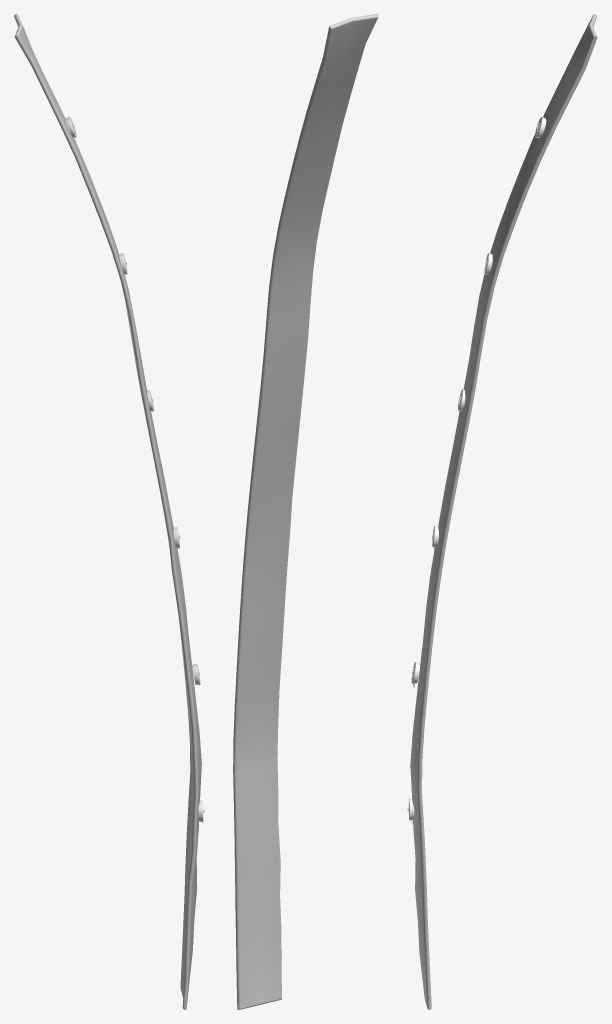
The model's file is Tuxedo_Placket.glb.
3 renders of one model, left to right at view 1: azimuth 90°, elevation 25°; view 2: azimuth 210°, elevation 25°; view 3: azimuth 270°, elevation 25°, orthographic. The views are drawn at different scales.
Parts seen in each view (by area): view 1: in_shirt_Node001.003; view 2: in_shirt_Node001.003; view 3: in_shirt_Node001.003.
Boxes of the visible parts, bbox=[...] form: in_shirt_Node001.003: bbox=[14, 14, 201, 1009]; in_shirt_Node001.003: bbox=[233, 14, 378, 1009]; in_shirt_Node001.003: bbox=[410, 14, 597, 1009].
Size of the model in its own units: 3.18 by 61.87 by 10.94.
4 materials, 1 textured.
